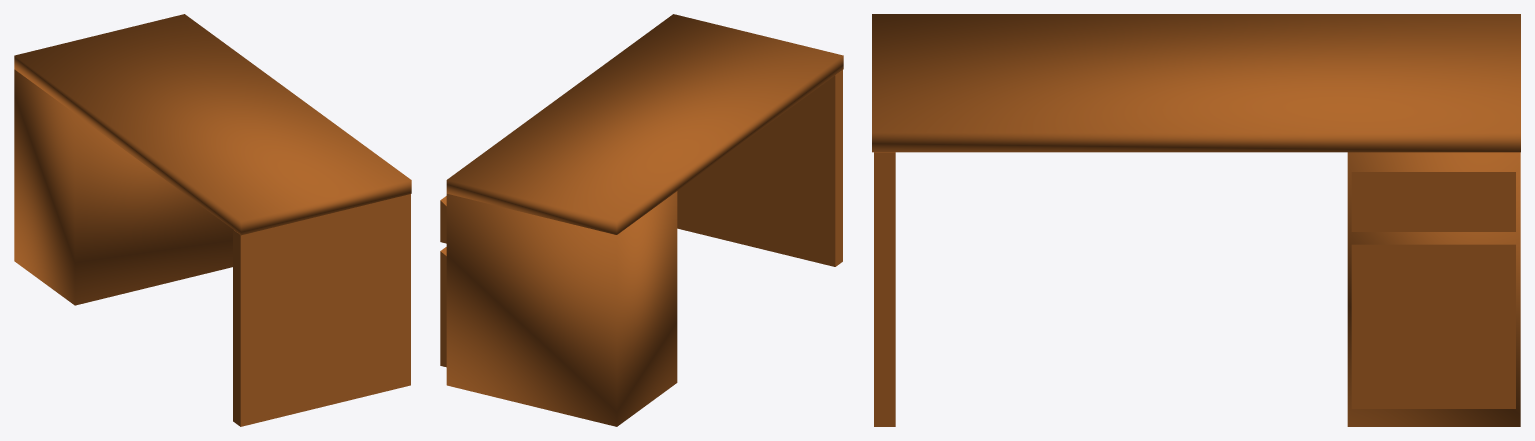
File: Lehrertisch.fbx
The picture shows the model from 3 angles, left to right: view 1: azimuth 30°, elevation 25°; view 2: azimuth 150°, elevation 25°; view 3: azimuth 270°, elevation 25°; orthographic projection. The views are drawn at different scales.
Parts seen in each view (by area): view 1: Cube; view 2: Cube; view 3: Cube.
Part boxes in pixels (box(x1,y1,x2,y2)): Cube: box(14, 14, 411, 426); Cube: box(440, 14, 843, 426); Cube: box(872, 14, 1520, 426).
Bounding box in the file's own units: 0.6808 × 0.7506 × 1.5.
